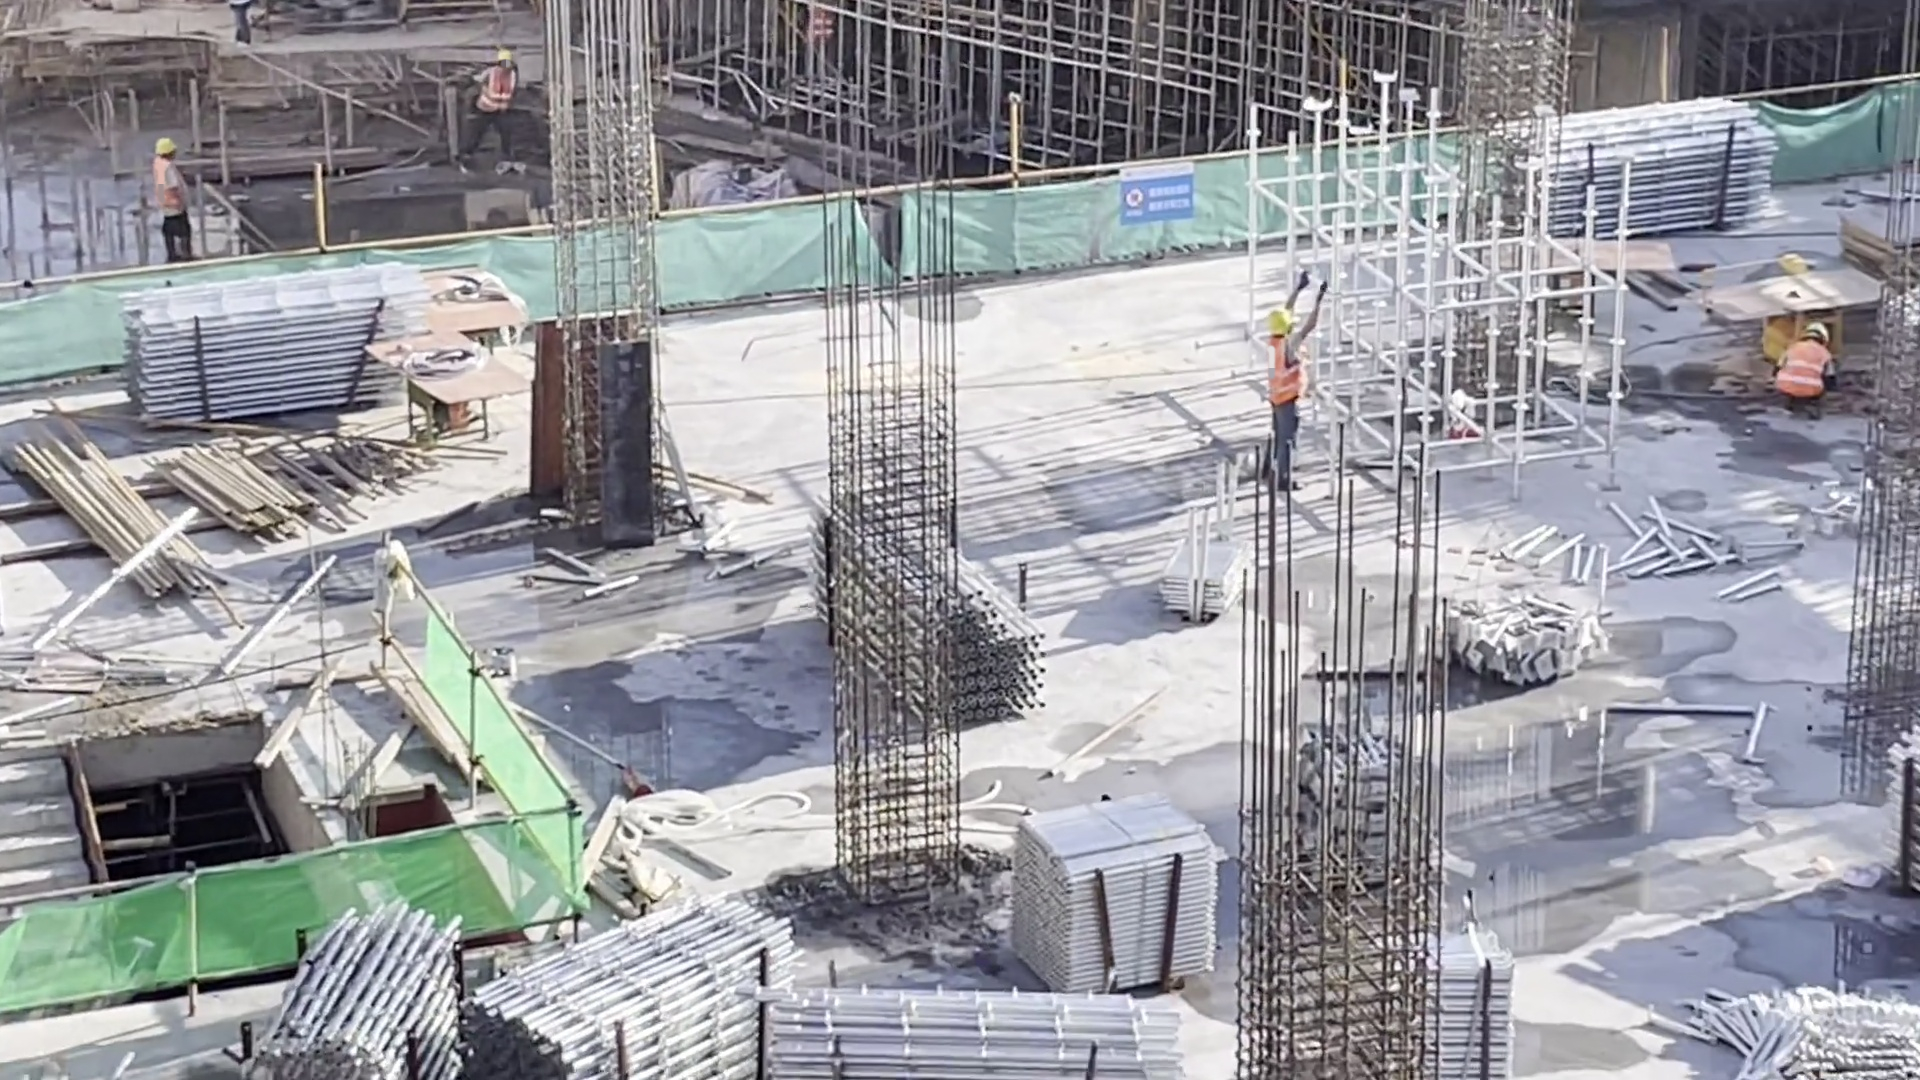cutter: (1500, 231, 1670, 327), (1728, 270, 1878, 359), (401, 353, 495, 442), (428, 274, 519, 353)
helmet: (1260, 310, 1297, 334), (151, 135, 177, 155), (1802, 320, 1826, 340)
person: (1255, 271, 1333, 504), (144, 134, 212, 265), (1773, 319, 1844, 427), (467, 48, 521, 164), (791, 1, 841, 83)
scaffold: (425, 911, 769, 1080), (841, 508, 1044, 724), (127, 300, 443, 421), (800, 984, 1173, 1080), (225, 935, 461, 1080), (1520, 125, 1783, 241), (1025, 821, 1207, 984), (1719, 981, 1897, 1080), (1402, 946, 1519, 1080), (1171, 497, 1242, 630)
slogan: (1114, 177, 1191, 225)
vest: (1779, 343, 1831, 399), (1265, 342, 1304, 407), (151, 163, 188, 215), (477, 73, 516, 114), (803, 13, 840, 44)
